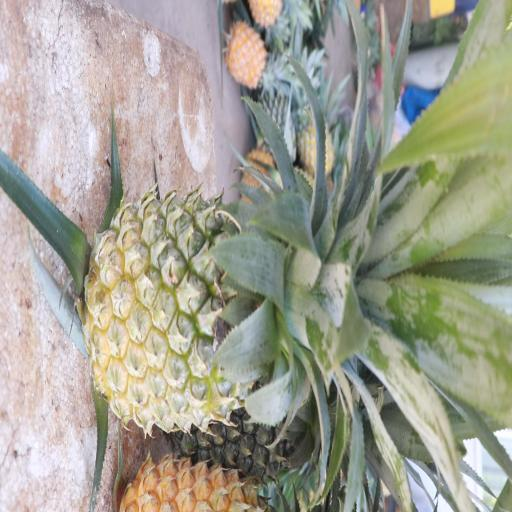------------------------------: (85, 198, 320, 433)
Pineapple - v8 v1: (223, 16, 284, 94), (294, 78, 332, 175)
